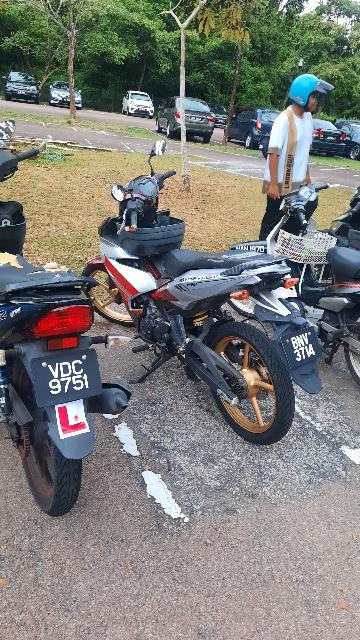License_Plate: (28, 348, 104, 411), (282, 329, 326, 370)
motorcycle: (74, 124, 316, 449), (2, 131, 109, 520)
